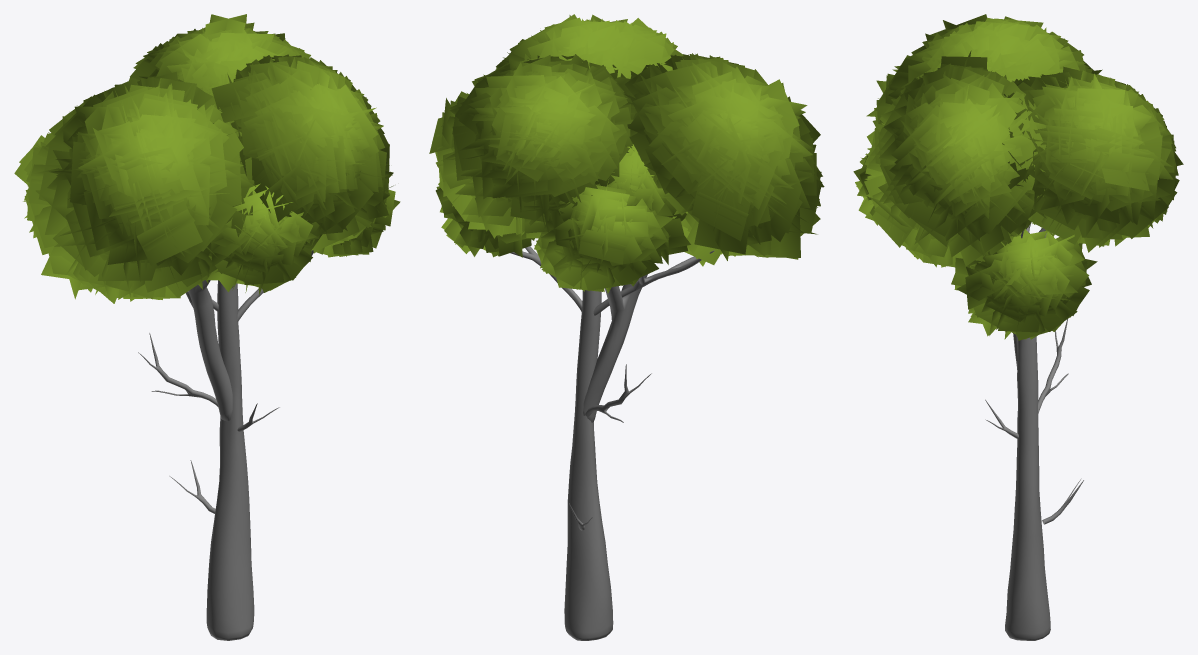
File: SM_tree_maple_03.fbx
3 views of the same model, side by side, from view 1: azimuth 30°, elevation 25°; view 2: azimuth 150°, elevation 25°; view 3: azimuth 270°, elevation 25° (orthographic). The views are drawn at different scales.
Parts seen in each view (by area): view 1: Group63250; view 2: Group63250; view 3: Group63250.
Boxes of the visible parts, left/top/right/bottom form: Group63250: left=14, top=14, right=400, bottom=640; Group63250: left=429, top=14, right=824, bottom=640; Group63250: left=853, top=14, right=1183, bottom=640.
Bounding box in the file's own units: 173 × 275 × 144.
